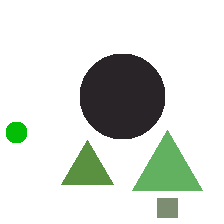circle: (80, 54, 164, 138), (6, 122, 26, 142)
rectangle: (157, 198, 177, 217)
triangle: (132, 130, 202, 190), (61, 140, 113, 184)
